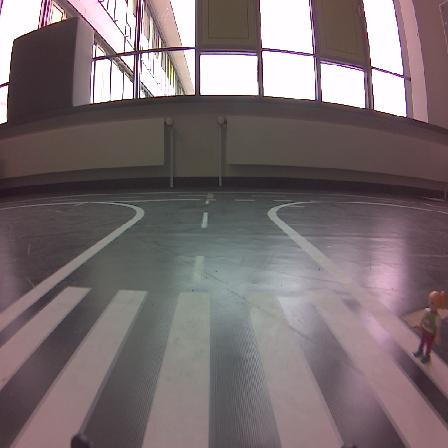CHILD: (414, 291, 445, 362)
